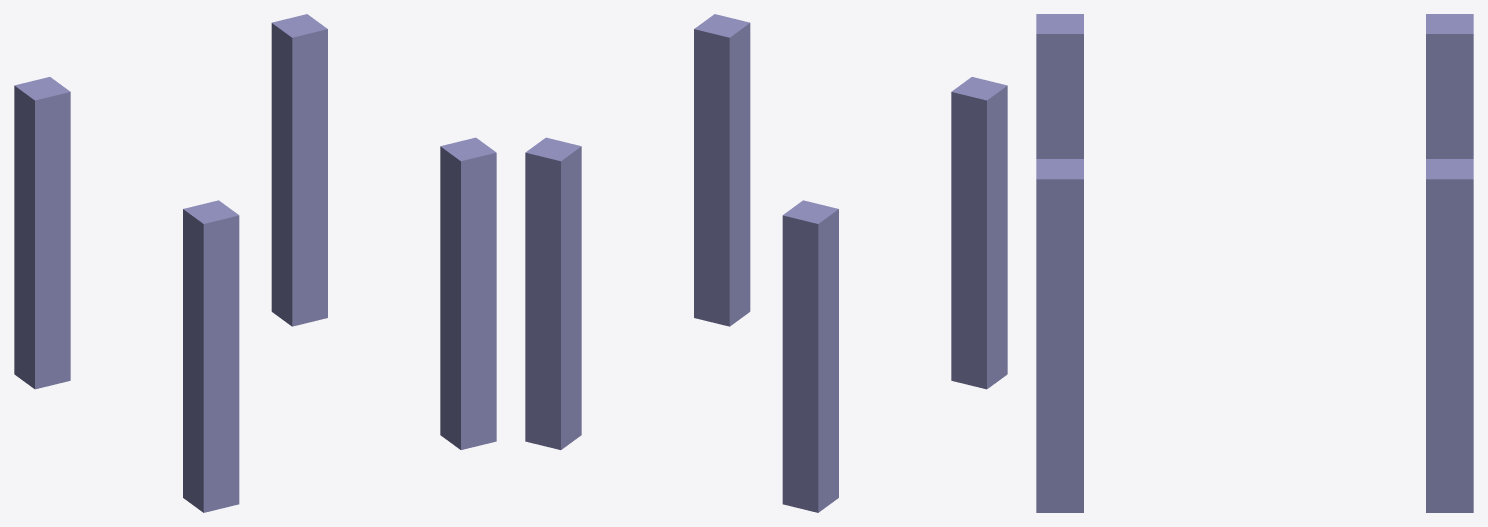
File: DumpTableLeg.gltf
3 renders of one model, left to right at view 1: azimuth 30°, elevation 25°; view 2: azimuth 150°, elevation 25°; view 3: azimuth 270°, elevation 25°, orthographic. The views are drawn at different scales.
Visible parts, largest first — view 1: logicDumpTableLeg_pv0x2213560, logicDumpTableLeg_pv0x2213598, logicDumpTableLeg_pv0x22135d0, logicDumpTableLeg_pv0x2213608; view 2: logicDumpTableLeg_pv0x2213560, logicDumpTableLeg_pv0x2213598, logicDumpTableLeg_pv0x22135d0, logicDumpTableLeg_pv0x2213608; view 3: logicDumpTableLeg_pv0x22135d0, logicDumpTableLeg_pv0x2213608, logicDumpTableLeg_pv0x2213560, logicDumpTableLeg_pv0x2213598.
Boxes of the visible parts, x1,y1,x2,y2 form: logicDumpTableLeg_pv0x2213560: (14, 77, 70, 389); logicDumpTableLeg_pv0x2213598: (183, 200, 239, 512); logicDumpTableLeg_pv0x22135d0: (271, 14, 327, 326); logicDumpTableLeg_pv0x2213608: (440, 137, 496, 449); logicDumpTableLeg_pv0x2213560: (782, 200, 838, 512); logicDumpTableLeg_pv0x2213598: (951, 77, 1007, 389); logicDumpTableLeg_pv0x22135d0: (525, 137, 581, 449); logicDumpTableLeg_pv0x2213608: (694, 14, 750, 326); logicDumpTableLeg_pv0x22135d0: (1426, 159, 1473, 512); logicDumpTableLeg_pv0x2213608: (1036, 159, 1083, 512); logicDumpTableLeg_pv0x2213560: (1426, 14, 1473, 158); logicDumpTableLeg_pv0x2213598: (1036, 14, 1083, 158).
Size of the model in its own units: 127 by 119 by 142.
